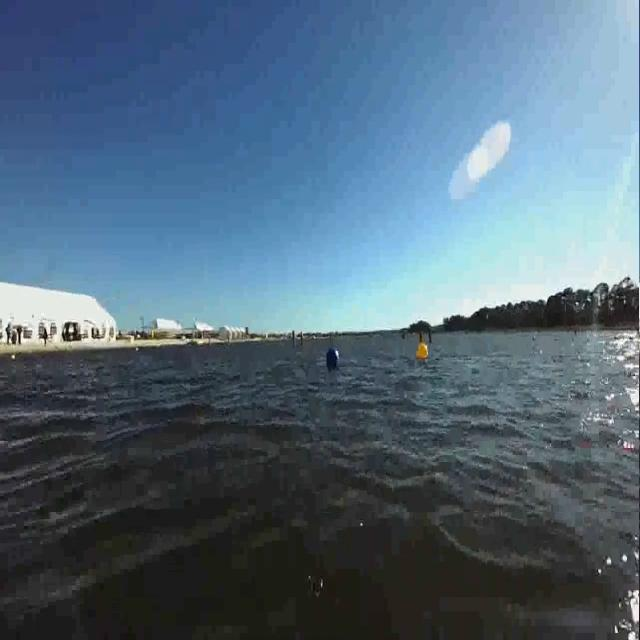blue-buoy: (328, 346, 342, 371)
yellow-buoy: (417, 341, 429, 361)
